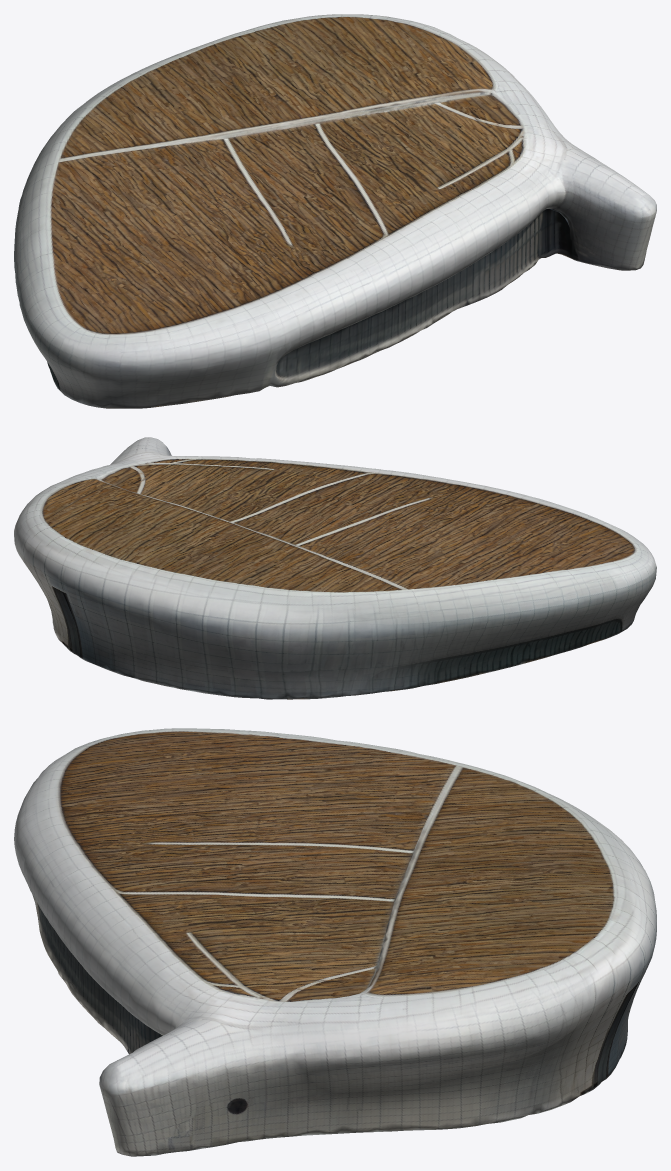
File: DDP_중간동.glb
3 renders of one model, top to bottom at view 1: azimuth 30°, elevation 25°; view 2: azimuth 150°, elevation 25°; view 3: azimuth 270°, elevation 25°, orthographic. The views are drawn at different scales.
Parts seen in each view (by area): view 1: texture_mapping; view 2: texture_mapping; view 3: texture_mapping.
Part boxes in pixels (box(x1,y1,x2,y2)): texture_mapping: box(14, 14, 656, 408); texture_mapping: box(14, 437, 656, 699); texture_mapping: box(14, 728, 656, 1156).
Size of the model in its own units: 0.9609 by 0.1997 by 0.7459.
Materials: 1 (1 with a texture image).
